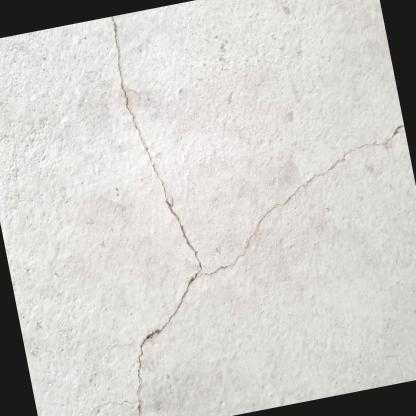crack: (106, 14, 405, 416)
